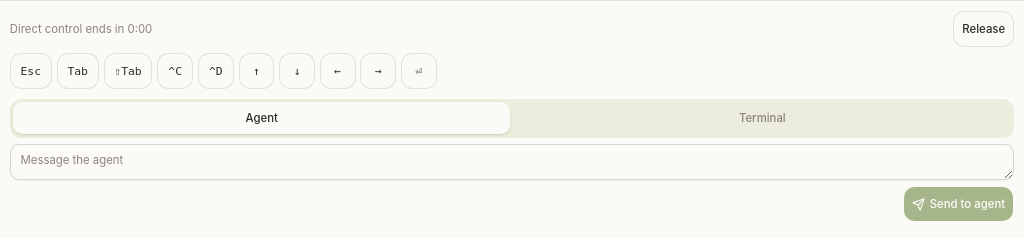
it: picks the input target with the shared radio group: one tab stop, arrow keys move the choice
This screenshot has width=1024, height=238.
Click the radio button labelled "Terminal": click(762, 118) [514,102,1011,134]
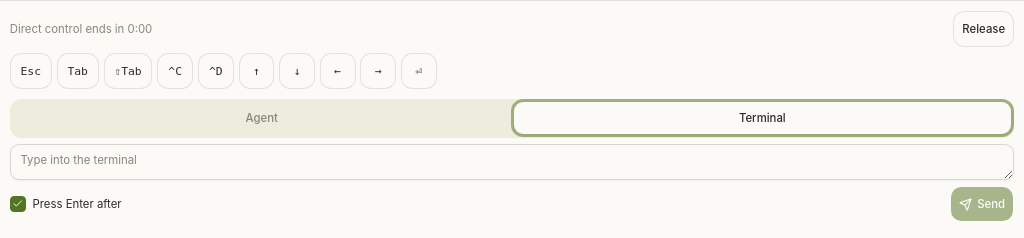
Expected: the text box labelled "Type into the terminal" is shown, [10,144,1014,180]
Press ArrowLeft in the radio button labelled "Terminal", box [514,102,1011,134]
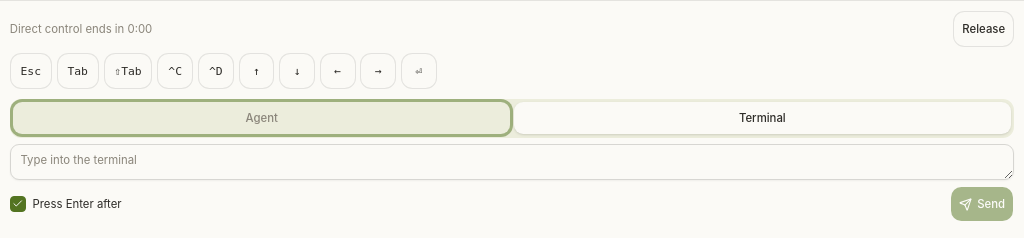
Click the radio button labelled "Agent": click(262, 118) [13,102,510,134]
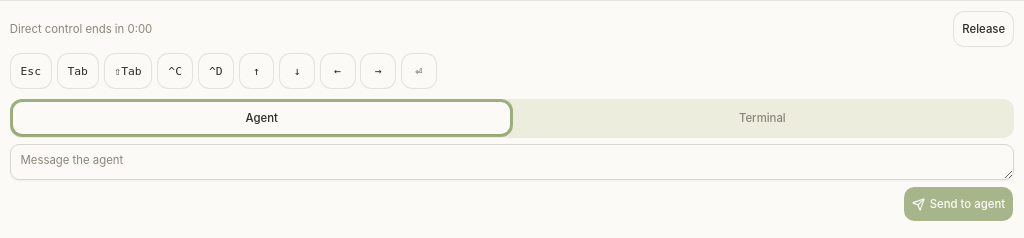
Expected: the text box labelled "Message the agent" is shown, [10,144,1014,180]
